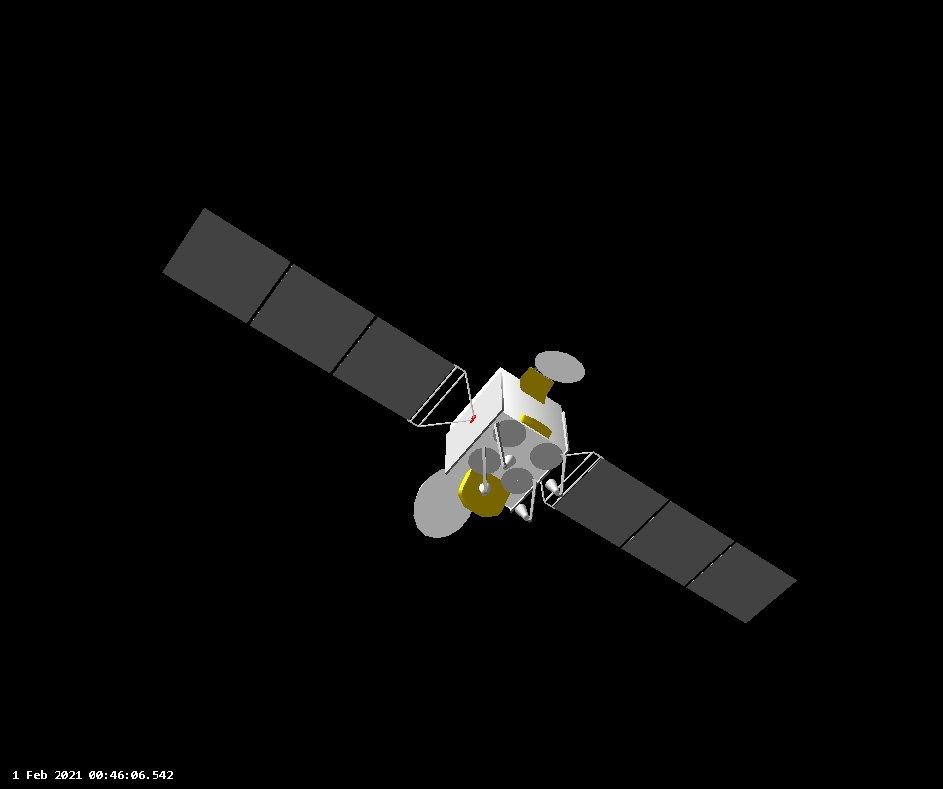antenna: (407, 460, 477, 540), (532, 345, 587, 387), (494, 413, 528, 452), (500, 465, 537, 497), (528, 440, 564, 472), (468, 448, 502, 476)
body: (442, 363, 573, 515)
solar: (154, 202, 479, 428), (545, 449, 801, 631)
